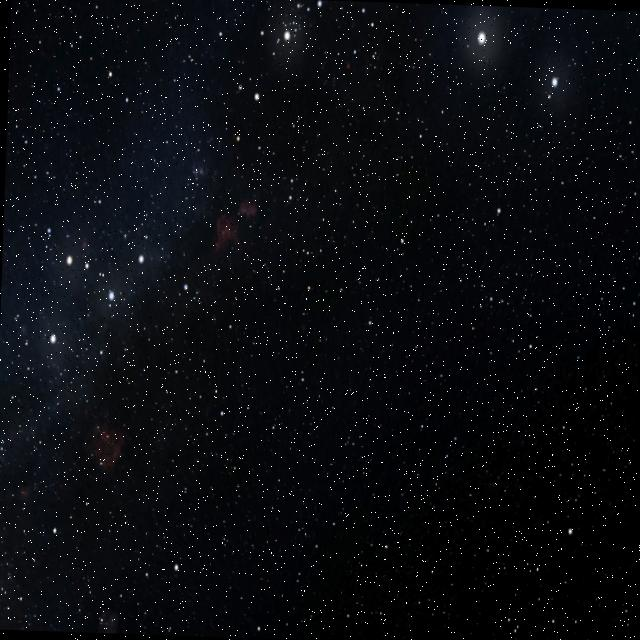Camelopardalis: (248, 183, 428, 556)
